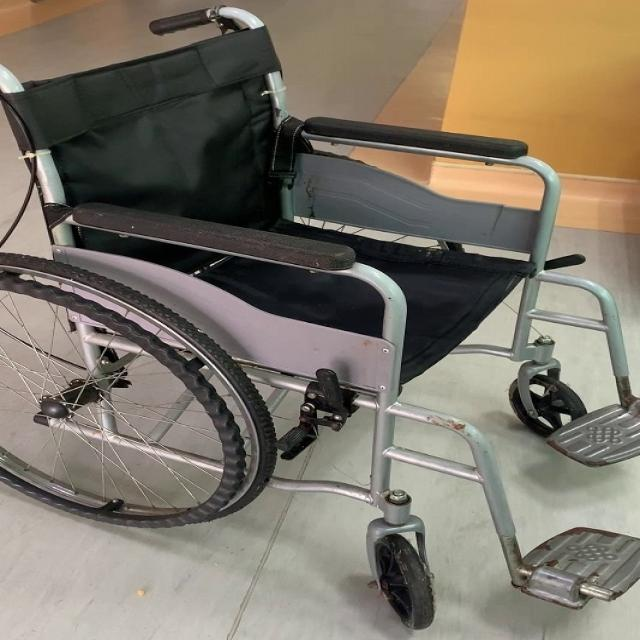wheelchair: (10, 2, 640, 640)
